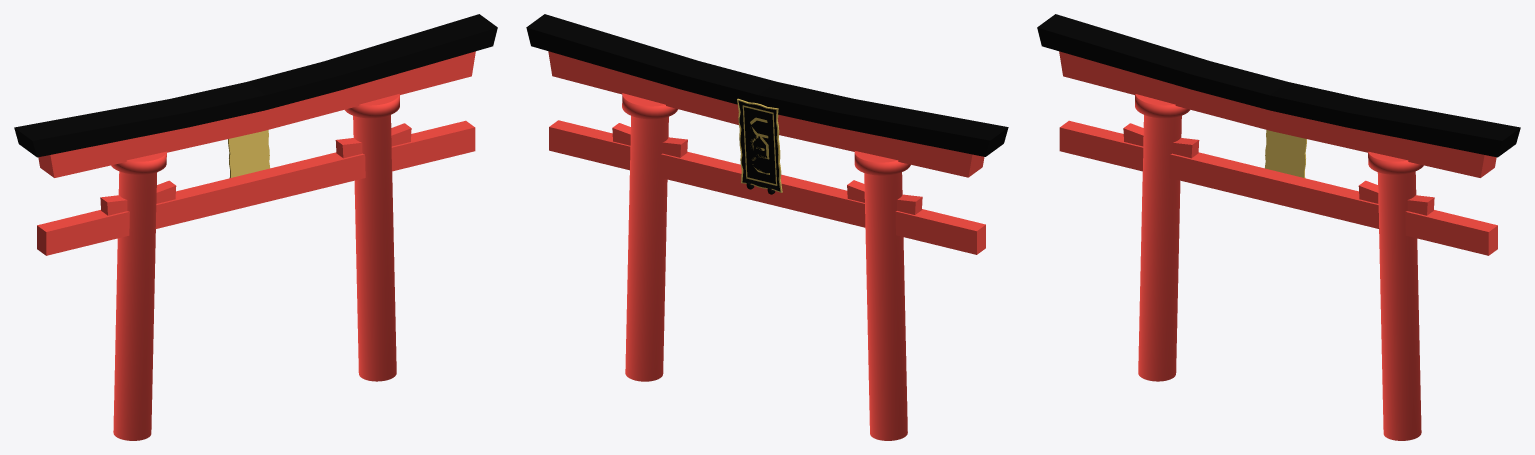
File: torii.fbx
The picture shows the model from 3 angles, left to right: view 1: azimuth 30°, elevation 25°; view 2: azimuth 150°, elevation 25°; view 3: azimuth 330°, elevation 25°; orthographic projection.
Parts seen in each view (by area): view 1: torii; view 2: torii; view 3: torii.
Boxes of the visible parts, x1,y1,x2,y2 form: torii: (14,14,497,440); torii: (526,14,1008,440); torii: (1037,14,1520,440).
Bounding box in the file's own units: 18.95 × 12.72 × 2.
